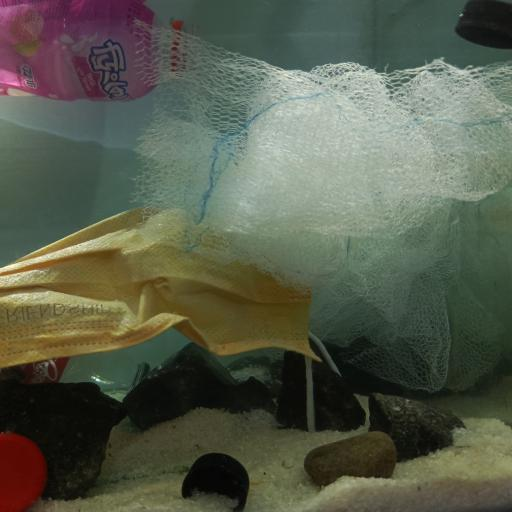bottle_cap: (182, 451, 249, 512), (0, 432, 49, 512), (455, 4, 512, 48)
mask: (1, 202, 327, 380)
net: (130, 12, 512, 394)
plastic_bottle: (0, 0, 200, 103), (12, 351, 151, 393)
